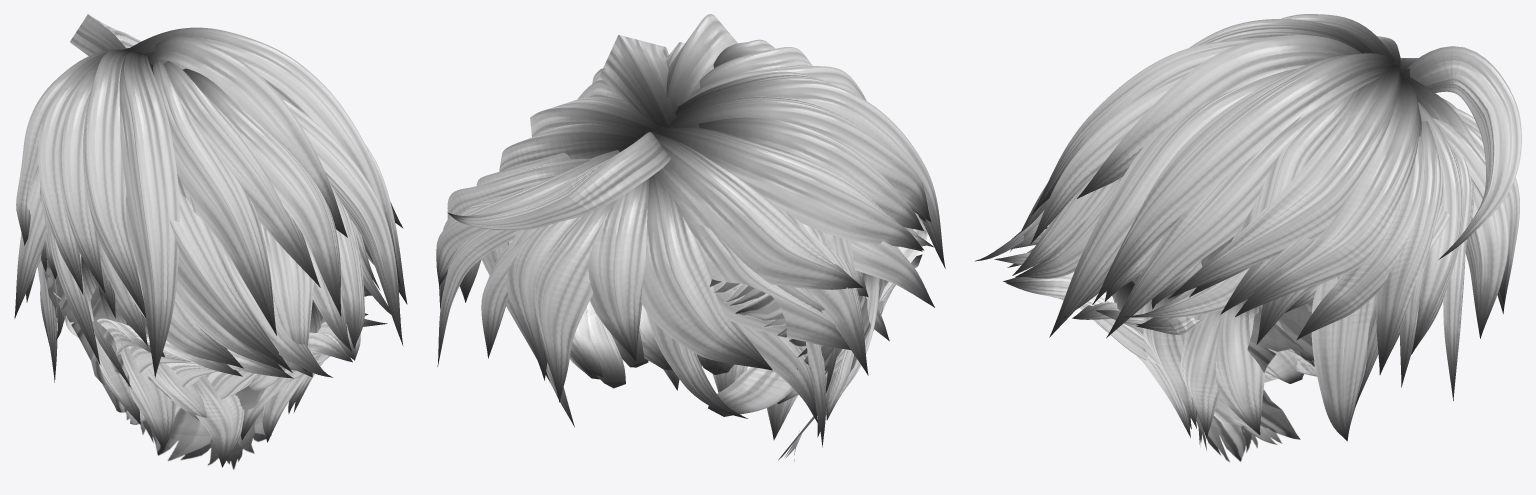
File: hair-masculine-sideSweep.glb
3 renders of one model, left to right at view 1: azimuth 30°, elevation 25°; view 2: azimuth 150°, elevation 25°; view 3: azimuth 270°, elevation 25°, orthographic. The views are drawn at different scales.
Parts seen in each view (by area): view 1: hair-sideSweep; view 2: hair-sideSweep; view 3: hair-sideSweep.
Boxes of the visible parts, x1,y1,x2,y2 form: hair-sideSweep: [14, 14, 407, 469]; hair-sideSweep: [436, 14, 945, 461]; hair-sideSweep: [975, 14, 1521, 462].
Bounding box in the file's own units: 0.2443 × 0.2741 × 0.3179.
3 materials, 3 textured.
